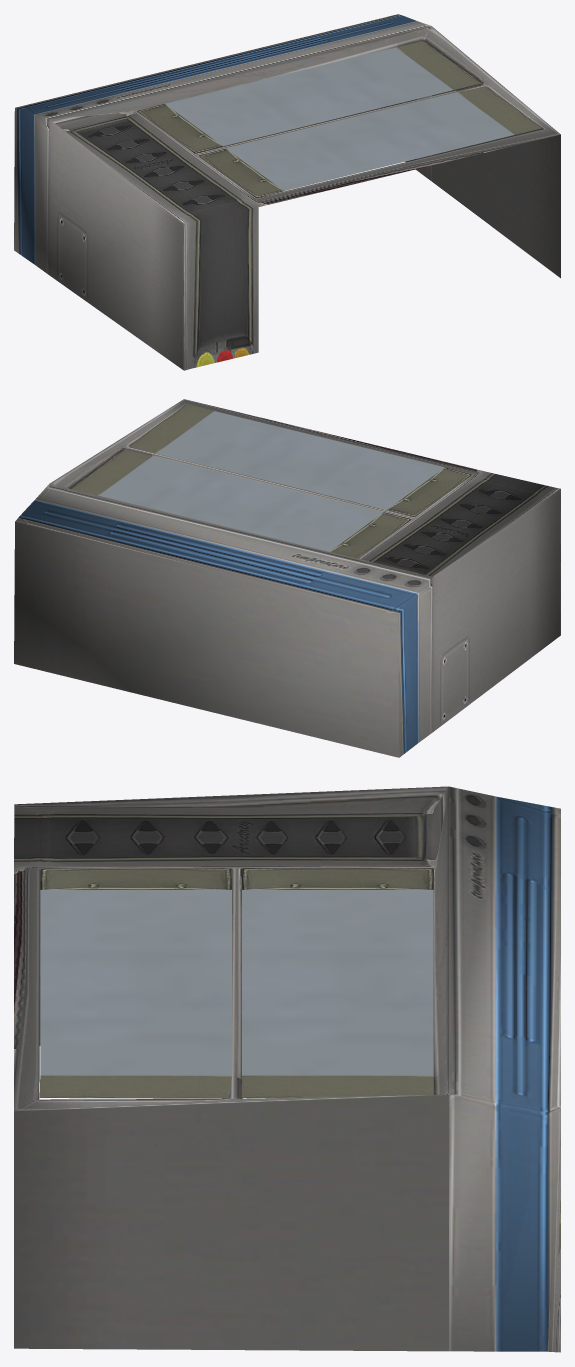
File: nt_2020_cup_warmer_blue_LOD2.obj
The picture shows the model from 3 angles, top to bottom: view 1: azimuth 30°, elevation 25°; view 2: azimuth 150°, elevation 25°; view 3: azimuth 270°, elevation 25°; orthographic projection. The views are drawn at different scales.
Parts seen in each view (by area): view 1: mtl_nt_2020_cup_warmer_blue, glass_clear_mp_model; view 2: mtl_nt_2020_cup_warmer_blue, glass_clear_mp_model; view 3: mtl_nt_2020_cup_warmer_blue, glass_clear_mp_model.
Part boxes in pixels (bbox=[...]): mtl_nt_2020_cup_warmer_blue: bbox=[14, 14, 560, 370]; glass_clear_mp_model: bbox=[165, 47, 514, 190]; mtl_nt_2020_cup_warmer_blue: bbox=[14, 399, 560, 757]; glass_clear_mp_model: bbox=[99, 411, 444, 551]; mtl_nt_2020_cup_warmer_blue: bbox=[14, 786, 560, 1352]; glass_clear_mp_model: bbox=[40, 890, 433, 1075].
Bounding box in the file's own units: 73.33 × 28.36 × 54.72.
